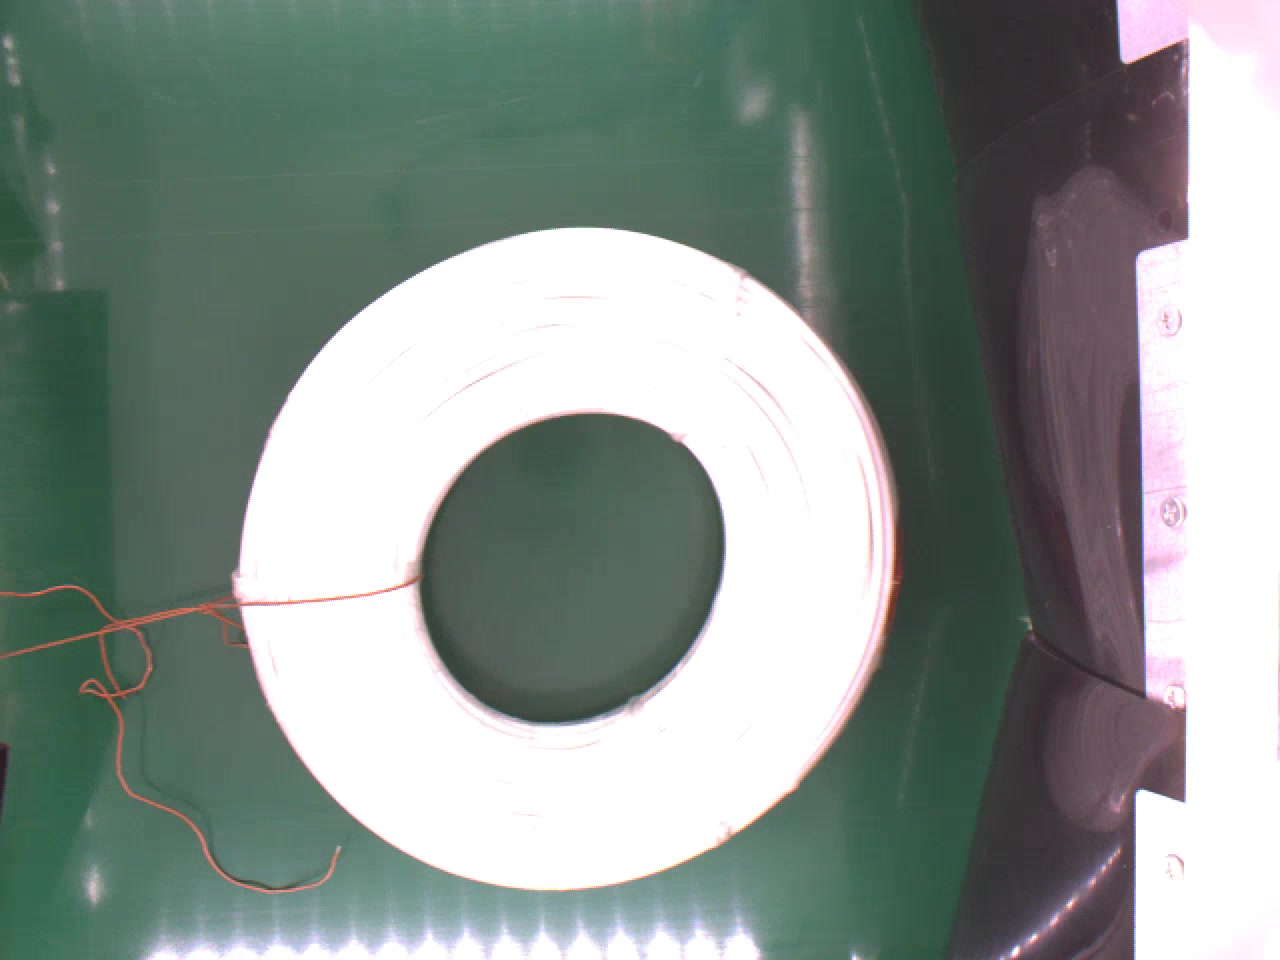white: (236, 215, 902, 893)
